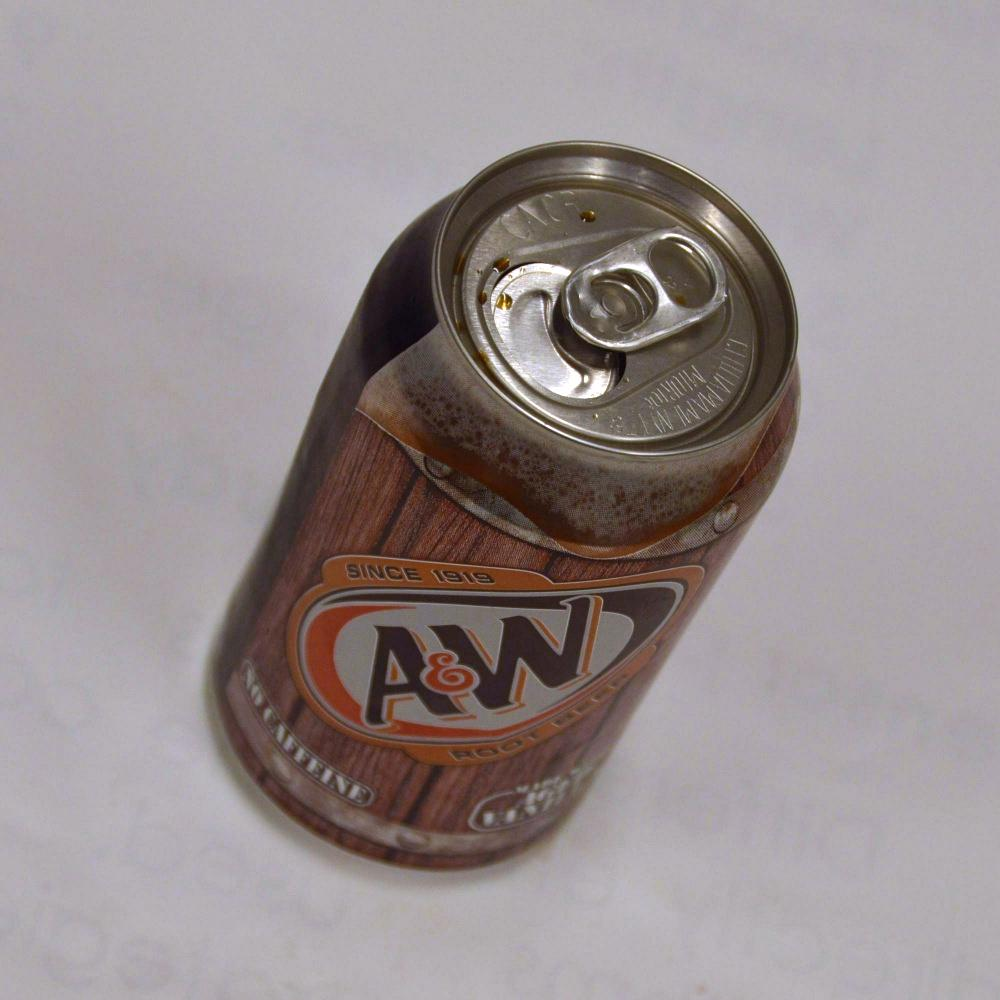Metal: (223, 128, 720, 862)
